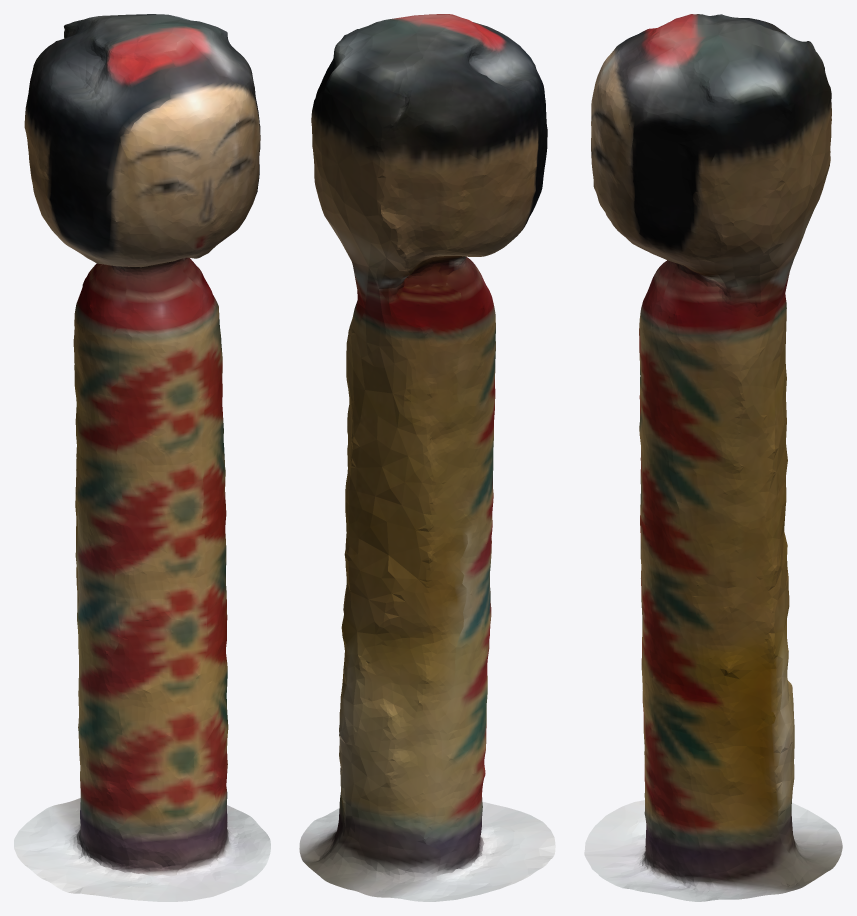
Rendered from kokeshiS009.glb.
3 views of the same model, side by side, from view 1: azimuth 30°, elevation 25°; view 2: azimuth 150°, elevation 25°; view 3: azimuth 270°, elevation 25° (orthographic).
Visible parts, largest first — view 1: mesh; view 2: mesh; view 3: mesh.
Boxes of the visible parts, left/top/right/bottom form: mesh: left=14, top=14, right=270, bottom=901; mesh: left=299, top=14, right=555, bottom=901; mesh: left=584, top=14, right=842, bottom=901.
Size of the model in its own units: 0.07 by 0.2478 by 0.0706.
1 material, 1 textured.
